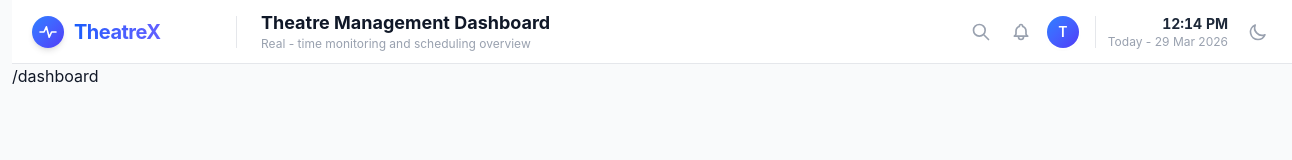
Scenario: Header Search › navigates to matched page on search submit
Click the button named "Search" at point(981, 32), box [963,14,999,50]
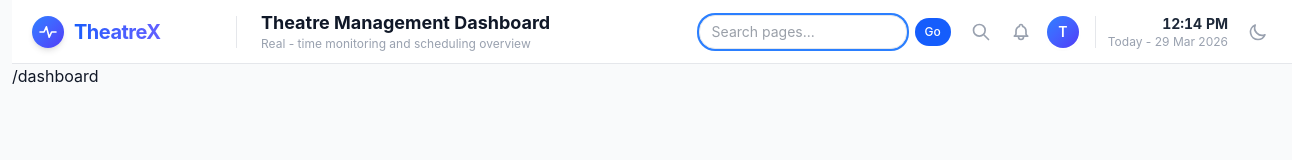
Type "surgeries" into the field with placeholder "Search pages..." at point(803, 32), box [699,14,907,48]
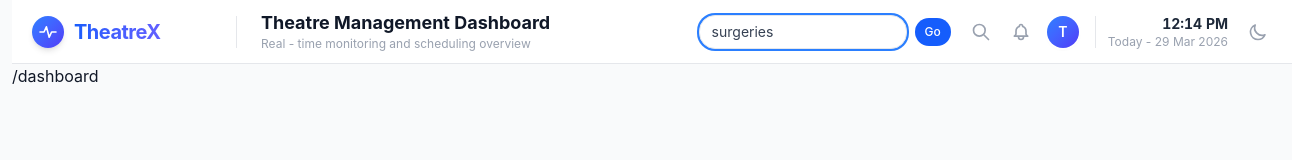
Click the button "Go" at point(933, 32), box [915,18,951,46]
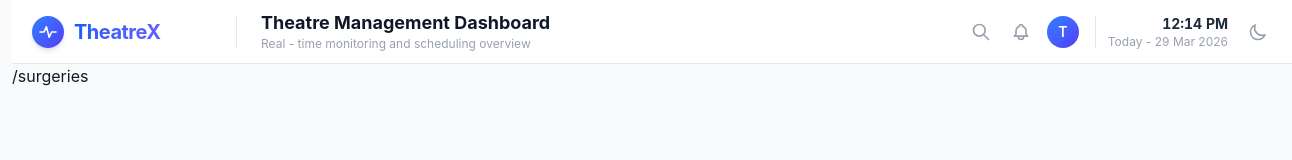
Check: the text with test id "location-display" reads "/surgeries", box [12,66,88,86]
